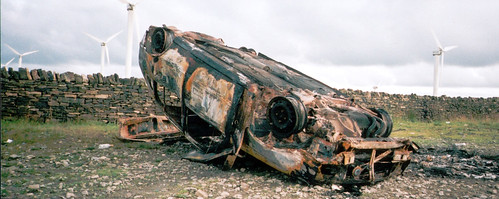car: (129, 19, 405, 199)
sky: (1, 1, 499, 85)
